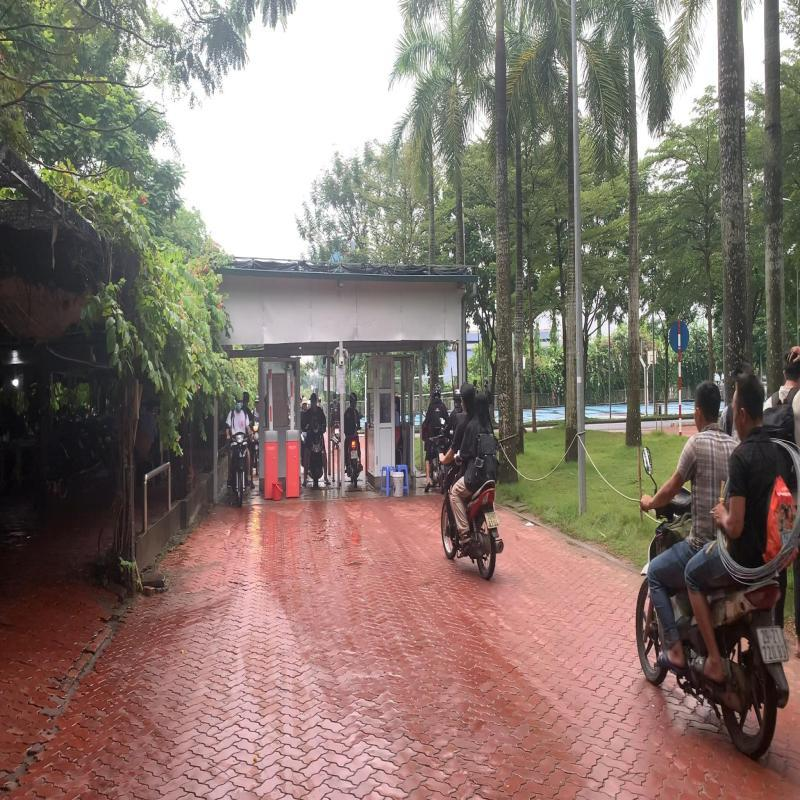nohelmet: (731, 370, 766, 436), (692, 378, 722, 431), (474, 388, 490, 420), (461, 380, 476, 412)
